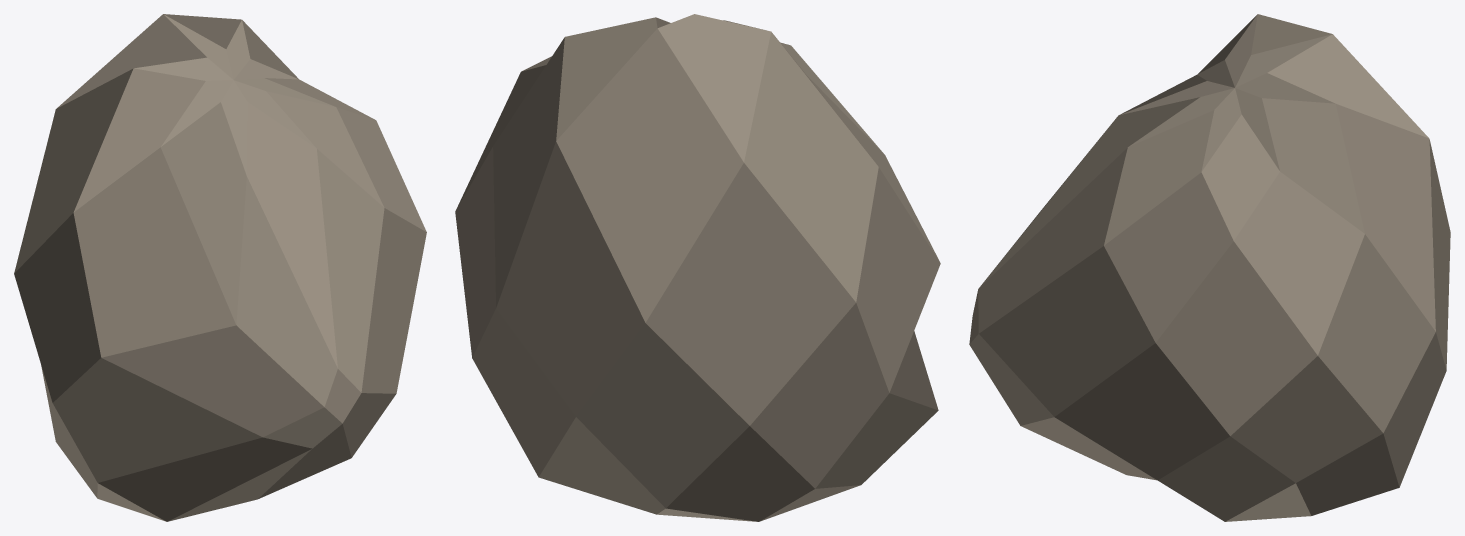
The model's file is rock 1.fbx.
3 renders of one model, left to right at view 1: azimuth 30°, elevation 25°; view 2: azimuth 150°, elevation 25°; view 3: azimuth 270°, elevation 25°, orthographic. The views are drawn at different scales.
Parts seen in each view (by area): view 1: Rock small; view 2: Rock small; view 3: Rock small.
Boxes of the visible parts, bbox=[...] form: Rock small: bbox=[14, 14, 426, 521]; Rock small: bbox=[455, 14, 940, 521]; Rock small: bbox=[969, 14, 1450, 521].
Bounding box in the file's own units: 279 × 333 × 313.
